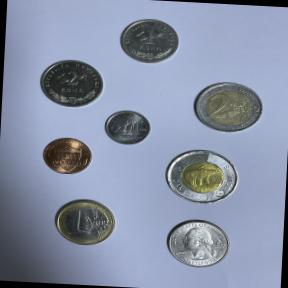1 Euro: (50, 192, 121, 250)
2 Euro: (188, 78, 268, 138)
Canda-10cent-: (100, 106, 154, 150)
Canda-2Dollar-: (159, 144, 247, 208)
Croatia-2Kune-: (30, 55, 110, 113)
US-1cent-: (37, 134, 96, 179)
US-25cent-: (161, 216, 235, 272)
